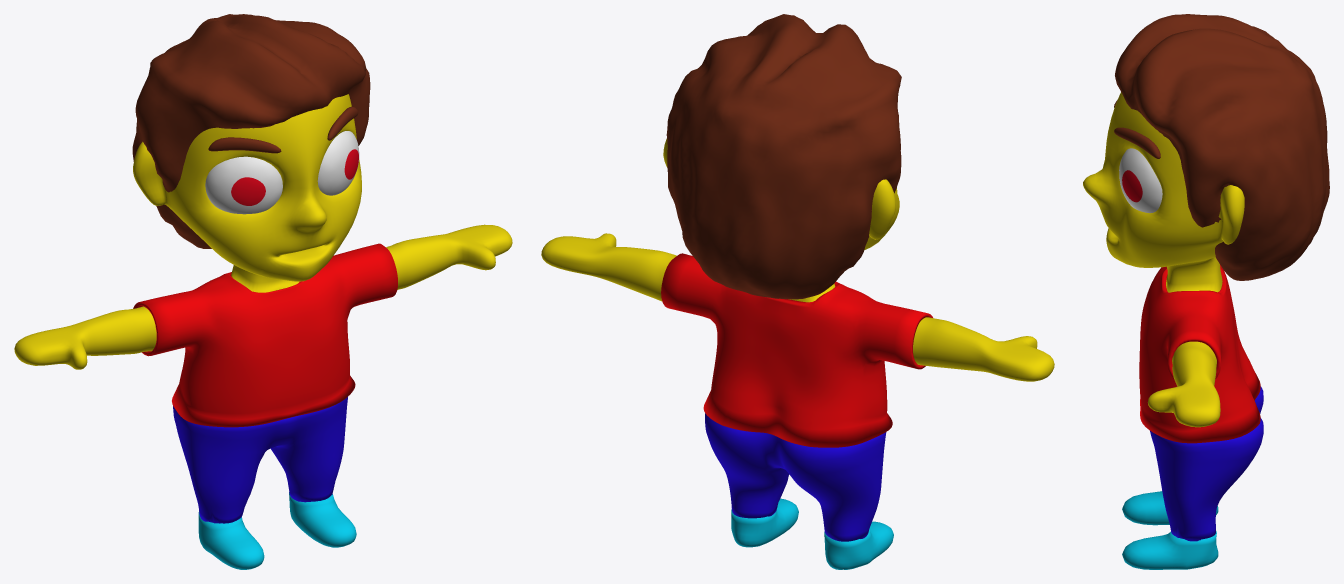
3 renders of one model, left to right at view 1: azimuth 30°, elevation 25°; view 2: azimuth 150°, elevation 25°; view 3: azimuth 270°, elevation 25°, orthographic. The views are drawn at different scales.
Visible parts, largest first — view 1: Boy; view 2: Boy; view 3: Boy.
Part boxes in pixels (bbox=[...]): Boy: bbox=[14, 14, 512, 569]; Boy: bbox=[541, 14, 1054, 569]; Boy: bbox=[1083, 14, 1329, 569].
Size of the model in its own units: 150 by 65.13 by 150.
